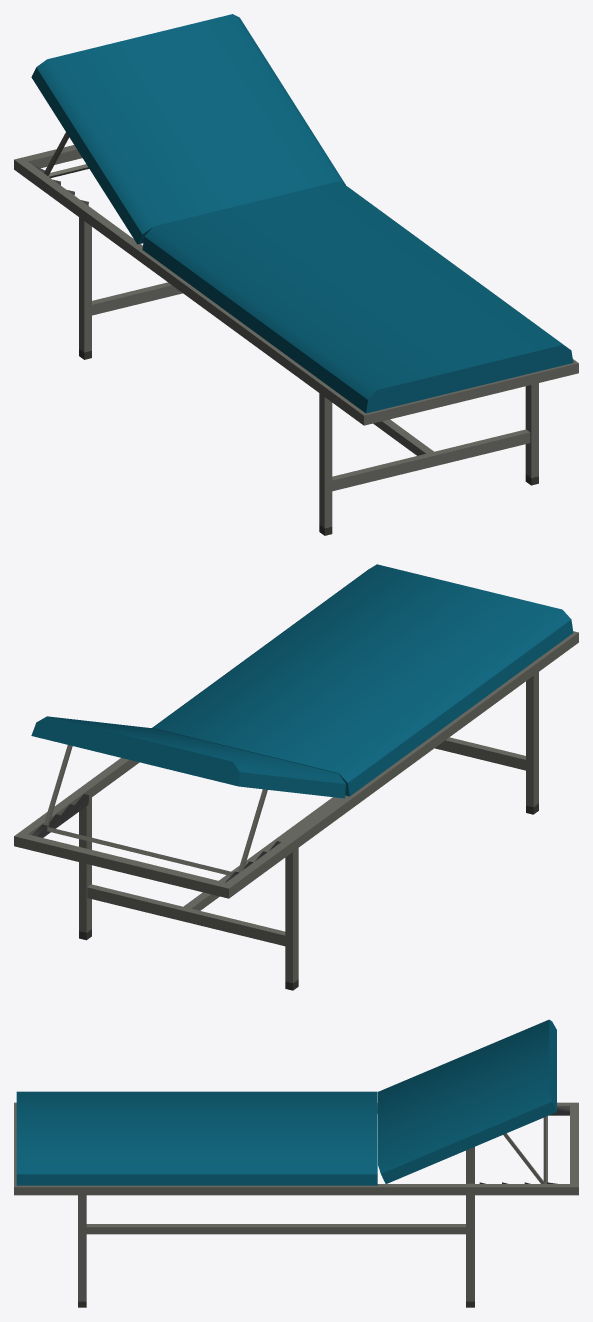
The model's file is examination bed.FBX.
3 views of the same model, one above another, from view 1: azimuth 30°, elevation 25°; view 2: azimuth 150°, elevation 25°; view 3: azimuth 270°, elevation 25° (orthographic). The views are drawn at different scales.
Parts seen in each view (by area): view 1: examination bed; view 2: examination bed; view 3: examination bed.
Part boxes in pixels (bbox=[...]): examination bed: bbox=[14, 14, 578, 535]; examination bed: bbox=[14, 564, 578, 990]; examination bed: bbox=[14, 1019, 578, 1307].
Size of the model in its own units: 80.14 by 92.39 by 226.
